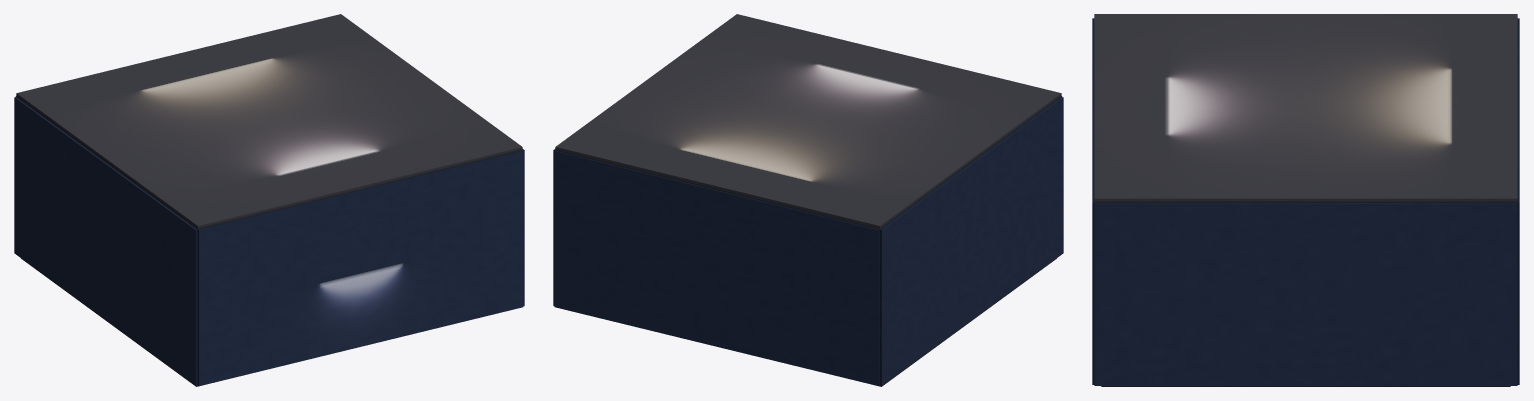
3 renders of one model, left to right at view 1: azimuth 30°, elevation 25°; view 2: azimuth 150°, elevation 25°; view 3: azimuth 270°, elevation 25°, orthographic. The views are drawn at different scales.
Visible parts, largest first — view 1: ToyBedroom / baked game mesh; view 2: ToyBedroom / baked game mesh; view 3: ToyBedroom / baked game mesh.
Part boxes in pixels (x1=…): ToyBedroom / baked game mesh: x1=14, y1=14, x2=524, y2=386; ToyBedroom / baked game mesh: x1=553, y1=14, x2=1063, y2=386; ToyBedroom / baked game mesh: x1=1092, y1=14, x2=1519, y2=386.
Bounding box in the file's own units: 6.48 × 3.08 × 6.26.
Materials: 1 (1 with a texture image).
